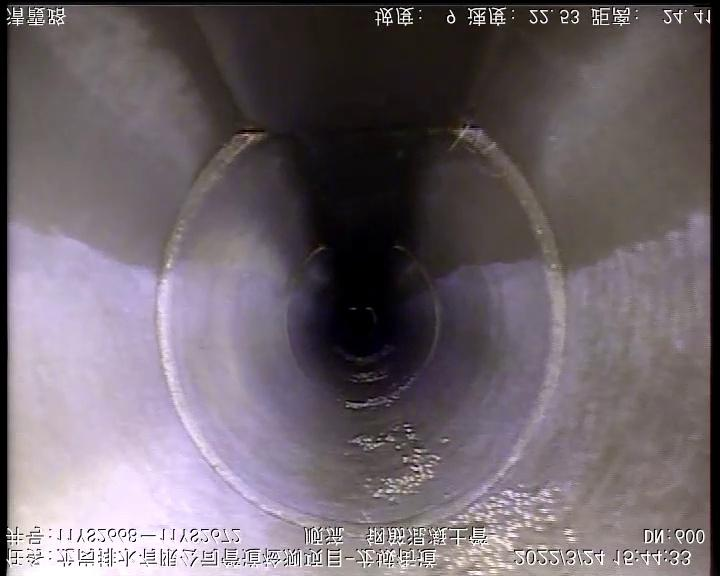CKTJ: (156, 130, 318, 527), (409, 124, 566, 524)
